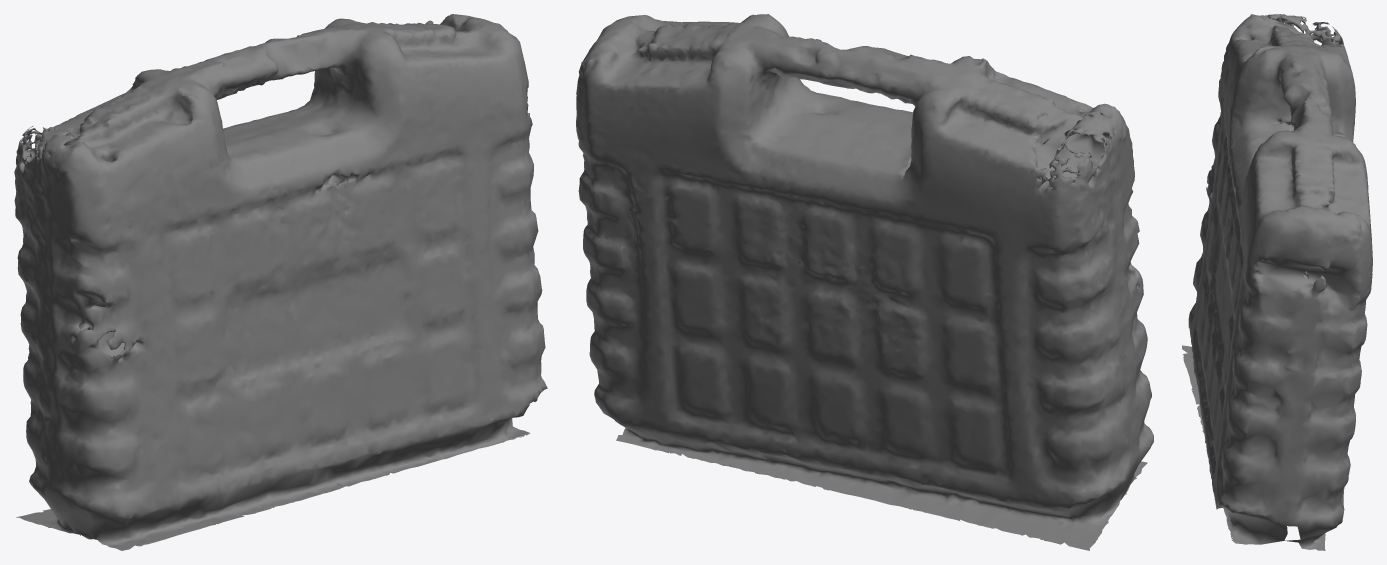
File: cleaned2.glb
The picture shows the model from 3 angles, left to right: view 1: azimuth 30°, elevation 25°; view 2: azimuth 150°, elevation 25°; view 3: azimuth 270°, elevation 25°; orthographic projection. The views are drawn at different scales.
Parts seen in each view (by area): view 1: mesh_id6, mesh_id5, mesh_id7; view 2: mesh_id6, mesh_id7, mesh_id5; view 3: mesh_id6, mesh_id7, mesh_id5.
Boxes of the visible parts, x1,y1,x2,y2 form: mesh_id6: (16, 22, 545, 550); mesh_id5: (15, 14, 547, 546); mesh_id7: (14, 15, 538, 548); mesh_id6: (576, 14, 1147, 550); mesh_id7: (576, 15, 1153, 534); mesh_id5: (576, 14, 1153, 530); mesh_id6: (1182, 21, 1372, 544); mesh_id7: (1184, 14, 1372, 549); mesh_id5: (1183, 14, 1372, 550).
Bounding box in the file's own units: 0.512 × 0.4266 × 0.1983.
Materials: 3 (3 with a texture image).
